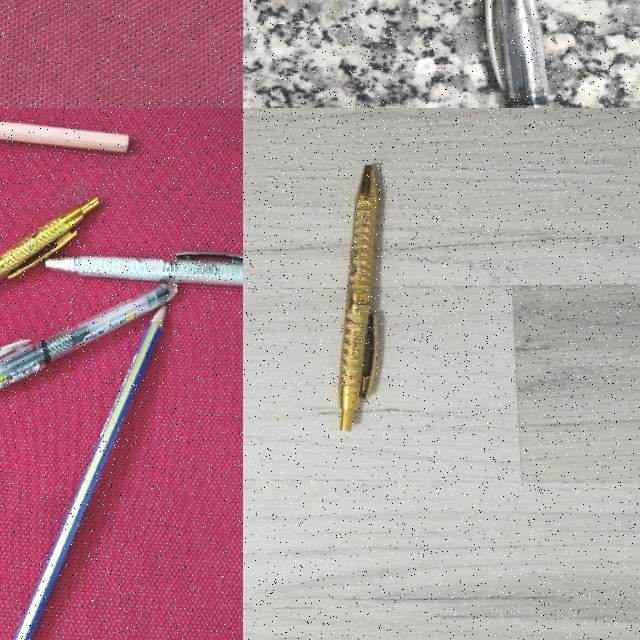pen: (0, 284, 176, 390), (485, 0, 548, 107)
pencil: (13, 306, 165, 640), (0, 108, 135, 152)
signature pen: (338, 166, 376, 430), (48, 243, 243, 288), (0, 199, 99, 281)
